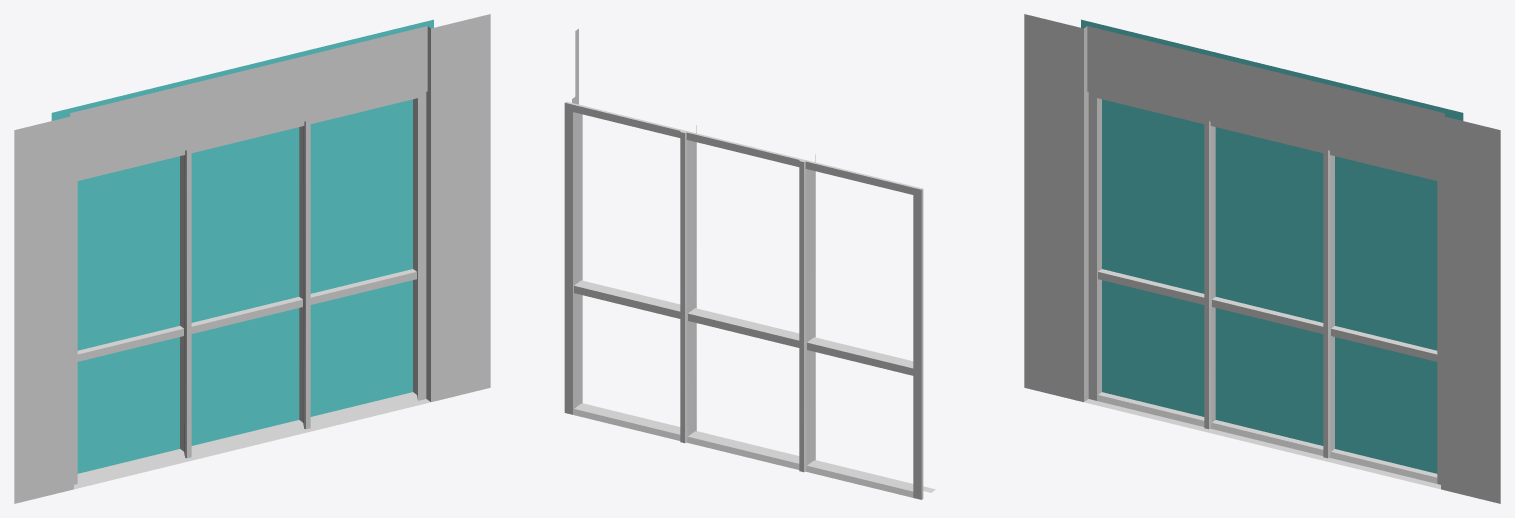
Rendered from Metal_Window.gltf.
3 renders of one model, left to right at view 1: azimuth 30°, elevation 25°; view 2: azimuth 150°, elevation 25°; view 3: azimuth 330°, elevation 25°, orthographic.
Visible parts, largest first — view 1: Metal_Window; view 2: Metal_Window; view 3: Metal_Window.
Boxes of the visible parts, x1,y1,x2,y2 form: Metal_Window: (14, 14, 490, 503); Metal_Window: (564, 28, 935, 499); Metal_Window: (1024, 14, 1500, 503).
Size of the model in its own units: 4 by 3 by 0.2239.
